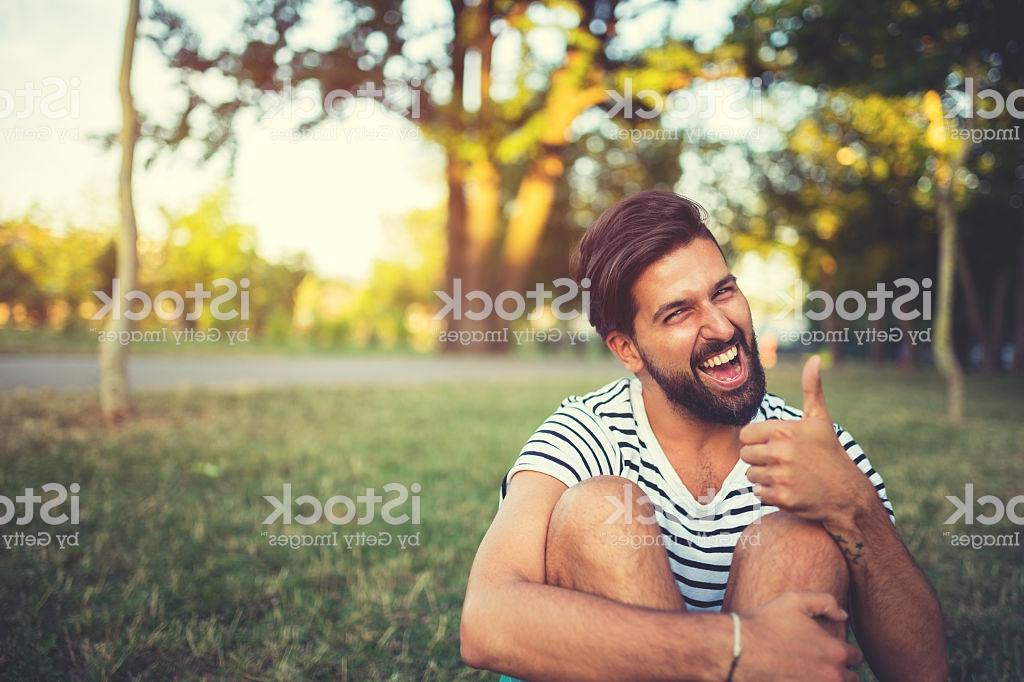thumbsup: (737, 352, 830, 512)
